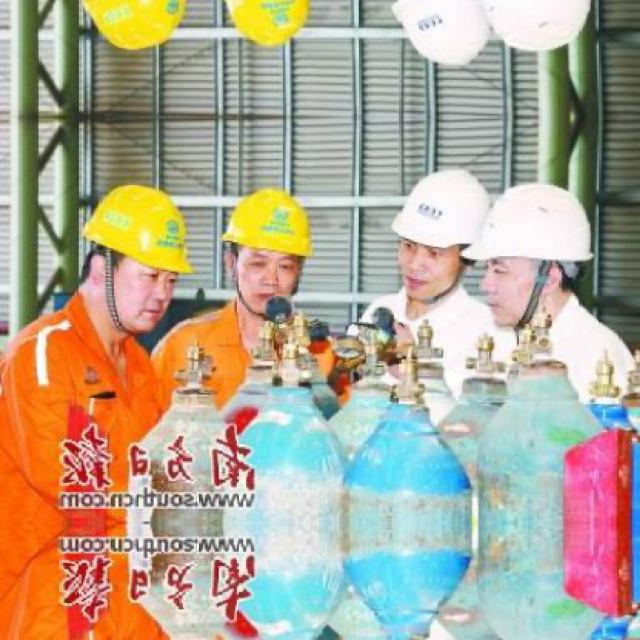con casco: (15, 164, 222, 390), (468, 183, 608, 339), (376, 155, 493, 287), (226, 180, 314, 320)
